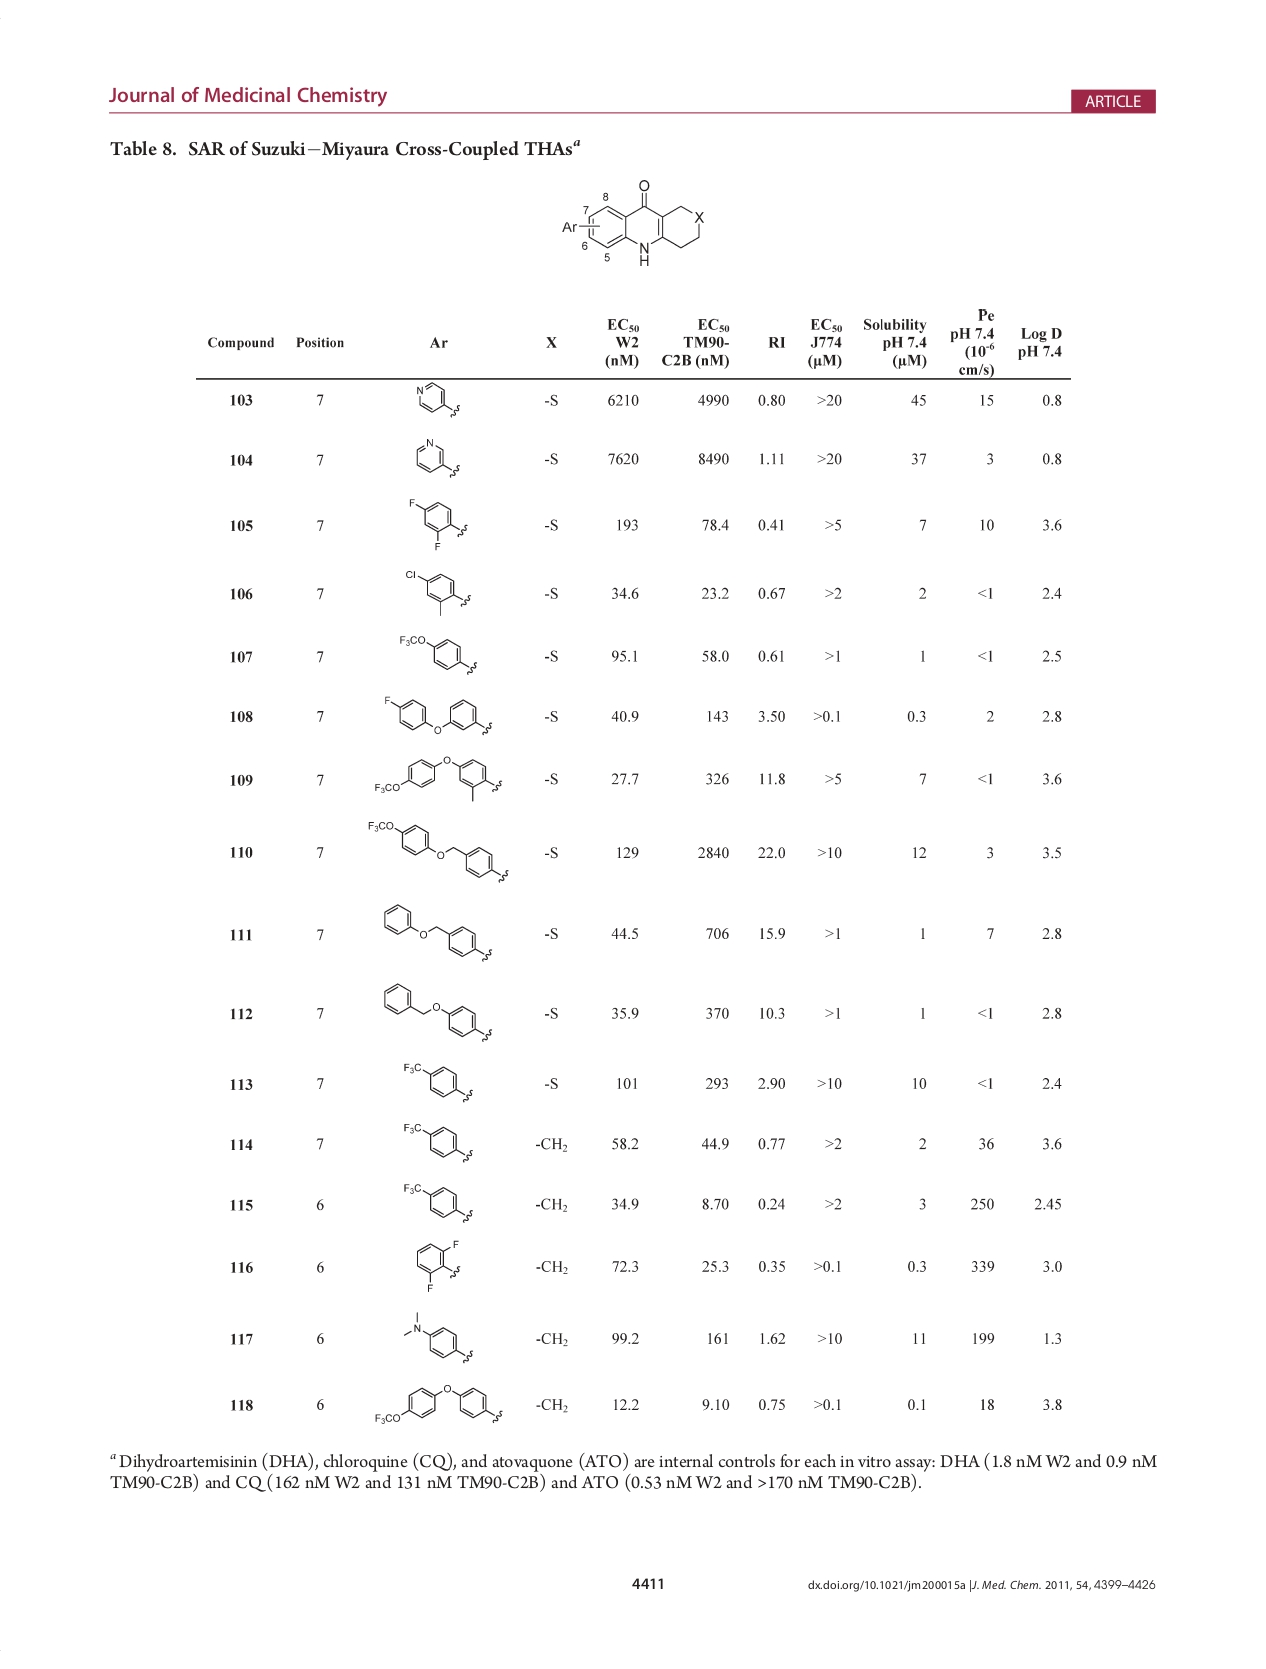exist_molecular: (556, 174, 710, 271), (366, 817, 511, 884), (376, 896, 496, 964), (379, 981, 492, 1043), (370, 755, 504, 803), (372, 1380, 504, 1428), (379, 692, 495, 738), (402, 1309, 476, 1364), (394, 630, 479, 677), (406, 495, 469, 553), (400, 1055, 475, 1104), (404, 567, 473, 618), (399, 1120, 473, 1168), (399, 1180, 476, 1223), (412, 1235, 464, 1293), (411, 434, 461, 481), (414, 380, 463, 419)
